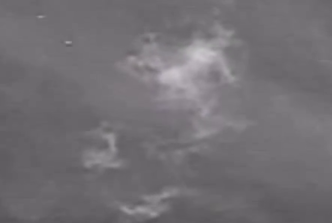Target: (39, 16, 72, 44)
